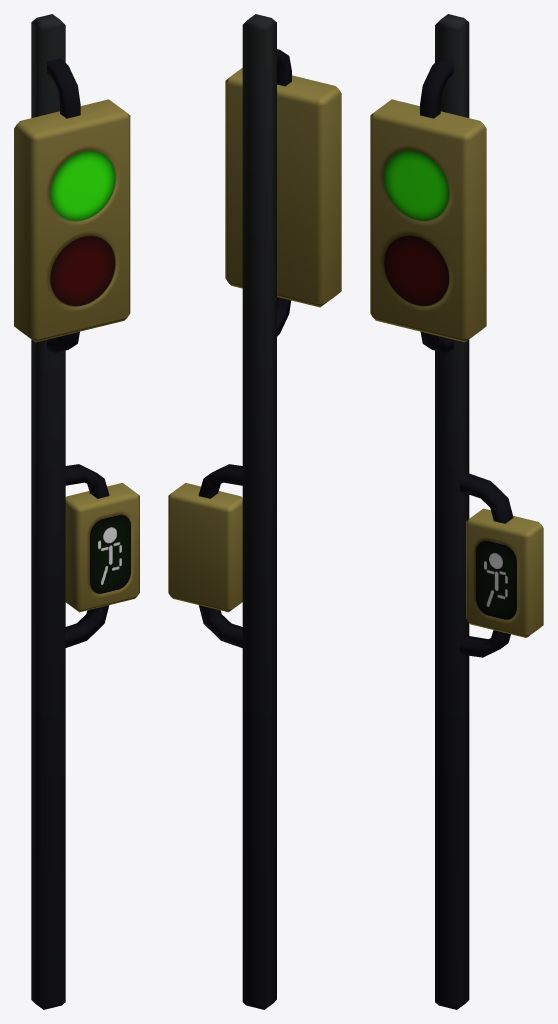
Rendered from mesh_trafficLight.fbx.
The picture shows the model from 3 angles, left to right: view 1: azimuth 30°, elevation 25°; view 2: azimuth 150°, elevation 25°; view 3: azimuth 330°, elevation 25°; orthographic projection.
Parts seen in each view (by area): view 1: mesh_trafficLight; view 2: mesh_trafficLight; view 3: mesh_trafficLight.
Part boxes in pixels (box(x1,y1,x2,y2)): mesh_trafficLight: box(14, 14, 139, 1009); mesh_trafficLight: box(168, 14, 341, 1009); mesh_trafficLight: box(370, 14, 543, 1009).
Size of the model in its own units: 82.49 by 574 by 46.56.
